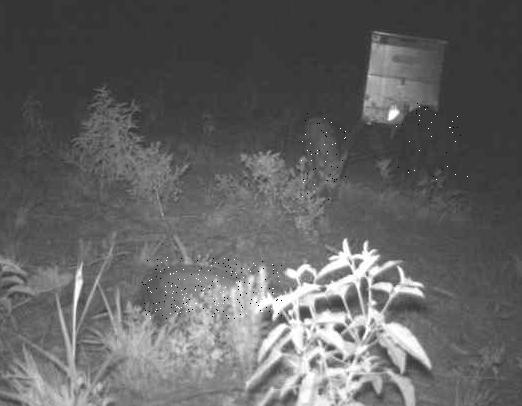Hog: (142, 258, 282, 320), (394, 102, 468, 185), (300, 112, 346, 200)
